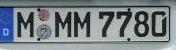0: (151, 10, 168, 37)
7: (98, 10, 115, 37), (117, 11, 132, 37)
8: (134, 11, 149, 37)
M: (16, 11, 35, 38), (55, 10, 72, 38), (74, 11, 91, 38)
